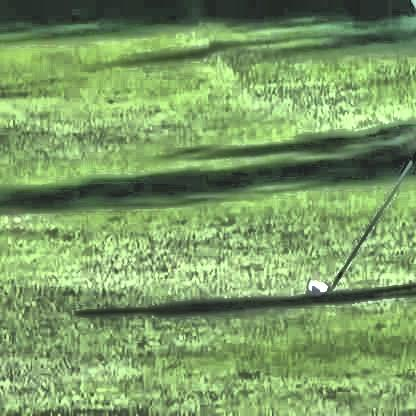golfball: (307, 282, 320, 293)
